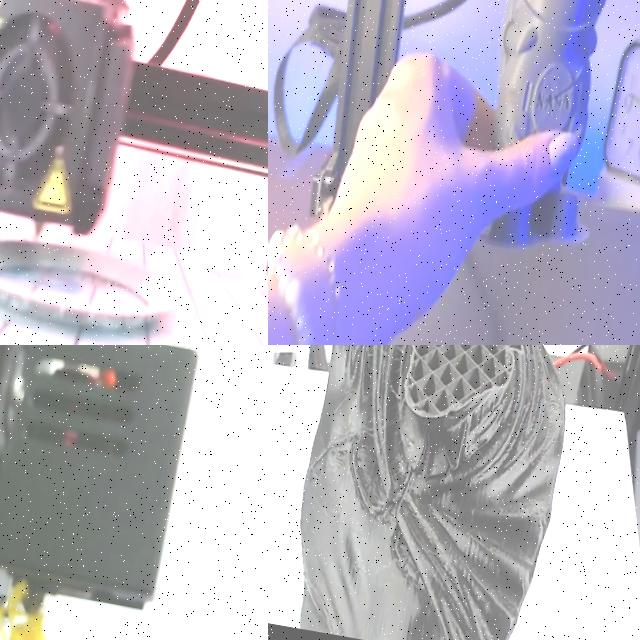spaghetti: (0, 566, 78, 640)
